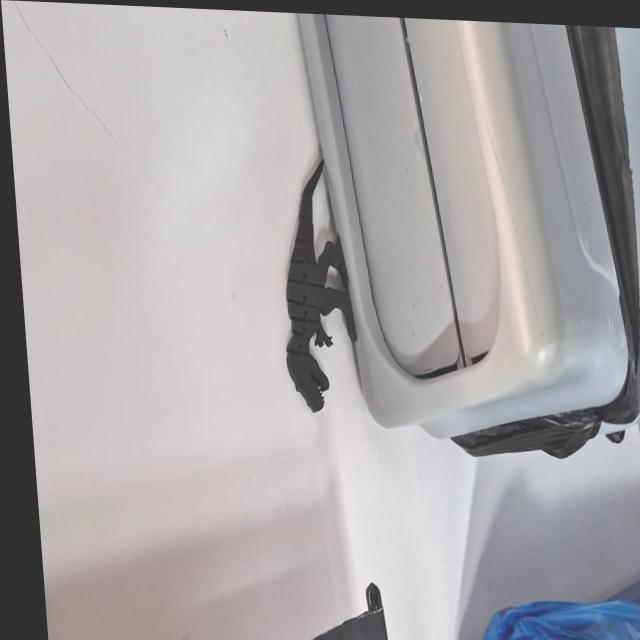dino: (270, 155, 363, 416)
